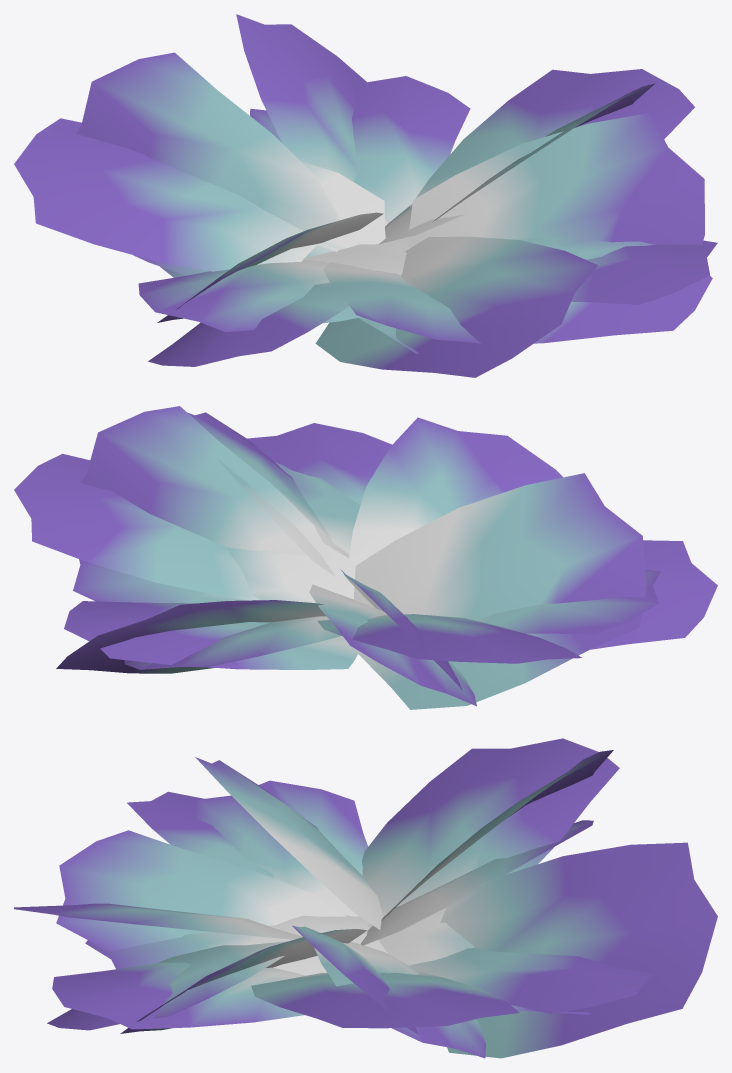
File: lq_center_somke_mesh.fbx
3 renders of one model, top to bottom at view 1: azimuth 30°, elevation 25°; view 2: azimuth 150°, elevation 25°; view 3: azimuth 270°, elevation 25°, orthographic. The views are drawn at different scales.
Visible parts, largest first — view 1: Plane02; view 2: Plane02; view 3: Plane02.
Part boxes in pixels (x1,y1,x2,y2): Plane02: (14,14,717,377); Plane02: (14,406,717,709); Plane02: (14,738,717,1058).
Size of the model in its own units: 87.71 by 27.2 by 87.25.
